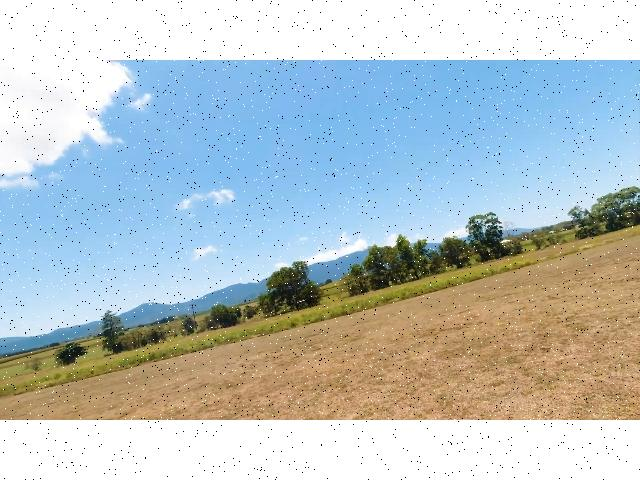Anti-Drone: (293, 297, 315, 311)
